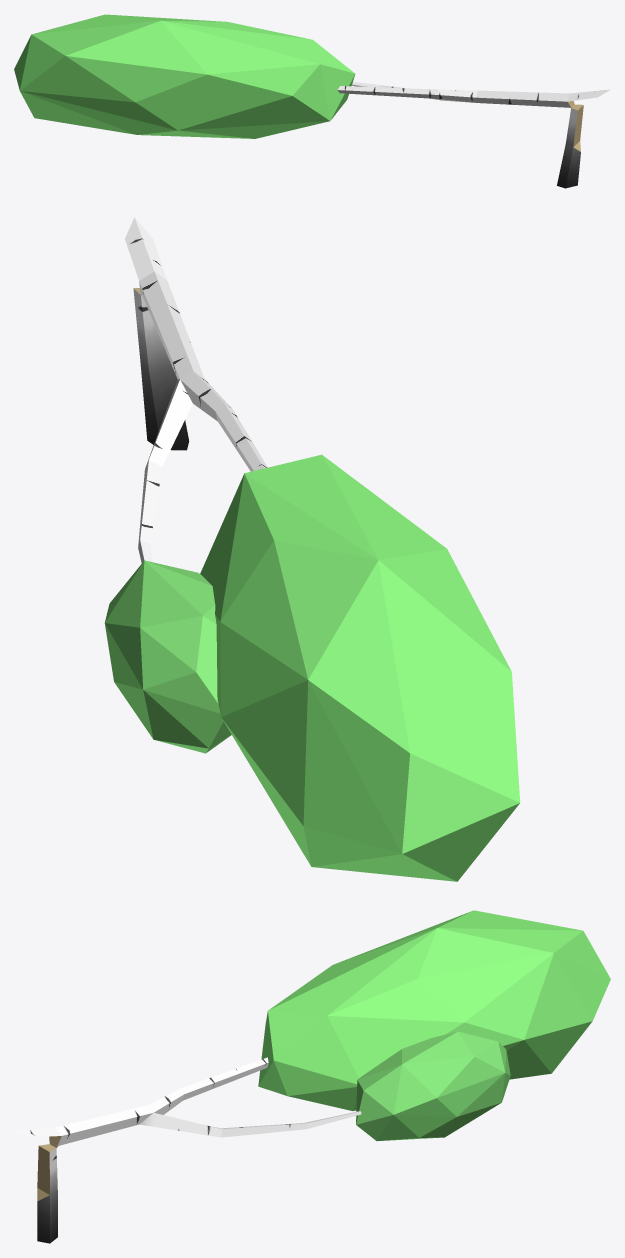
The model's file is Birch_Tree_crk_l_BT_01.fbx.
The picture shows the model from 3 angles, top to bottom: view 1: azimuth 30°, elevation 25°; view 2: azimuth 150°, elevation 25°; view 3: azimuth 270°, elevation 25°; orthographic projection. The views are drawn at different scales.
Parts seen in each view (by area): view 1: Birch_Tree_crk_l_BT_01; view 2: Birch_Tree_crk_l_BT_01; view 3: Birch_Tree_crk_l_BT_01.
Part boxes in pixels (bbox=[...]): Birch_Tree_crk_l_BT_01: bbox=[14, 14, 610, 188]; Birch_Tree_crk_l_BT_01: bbox=[104, 217, 520, 881]; Birch_Tree_crk_l_BT_01: bbox=[15, 910, 610, 1243].
Size of the model in its own units: 1110 by 320 by 1136.
